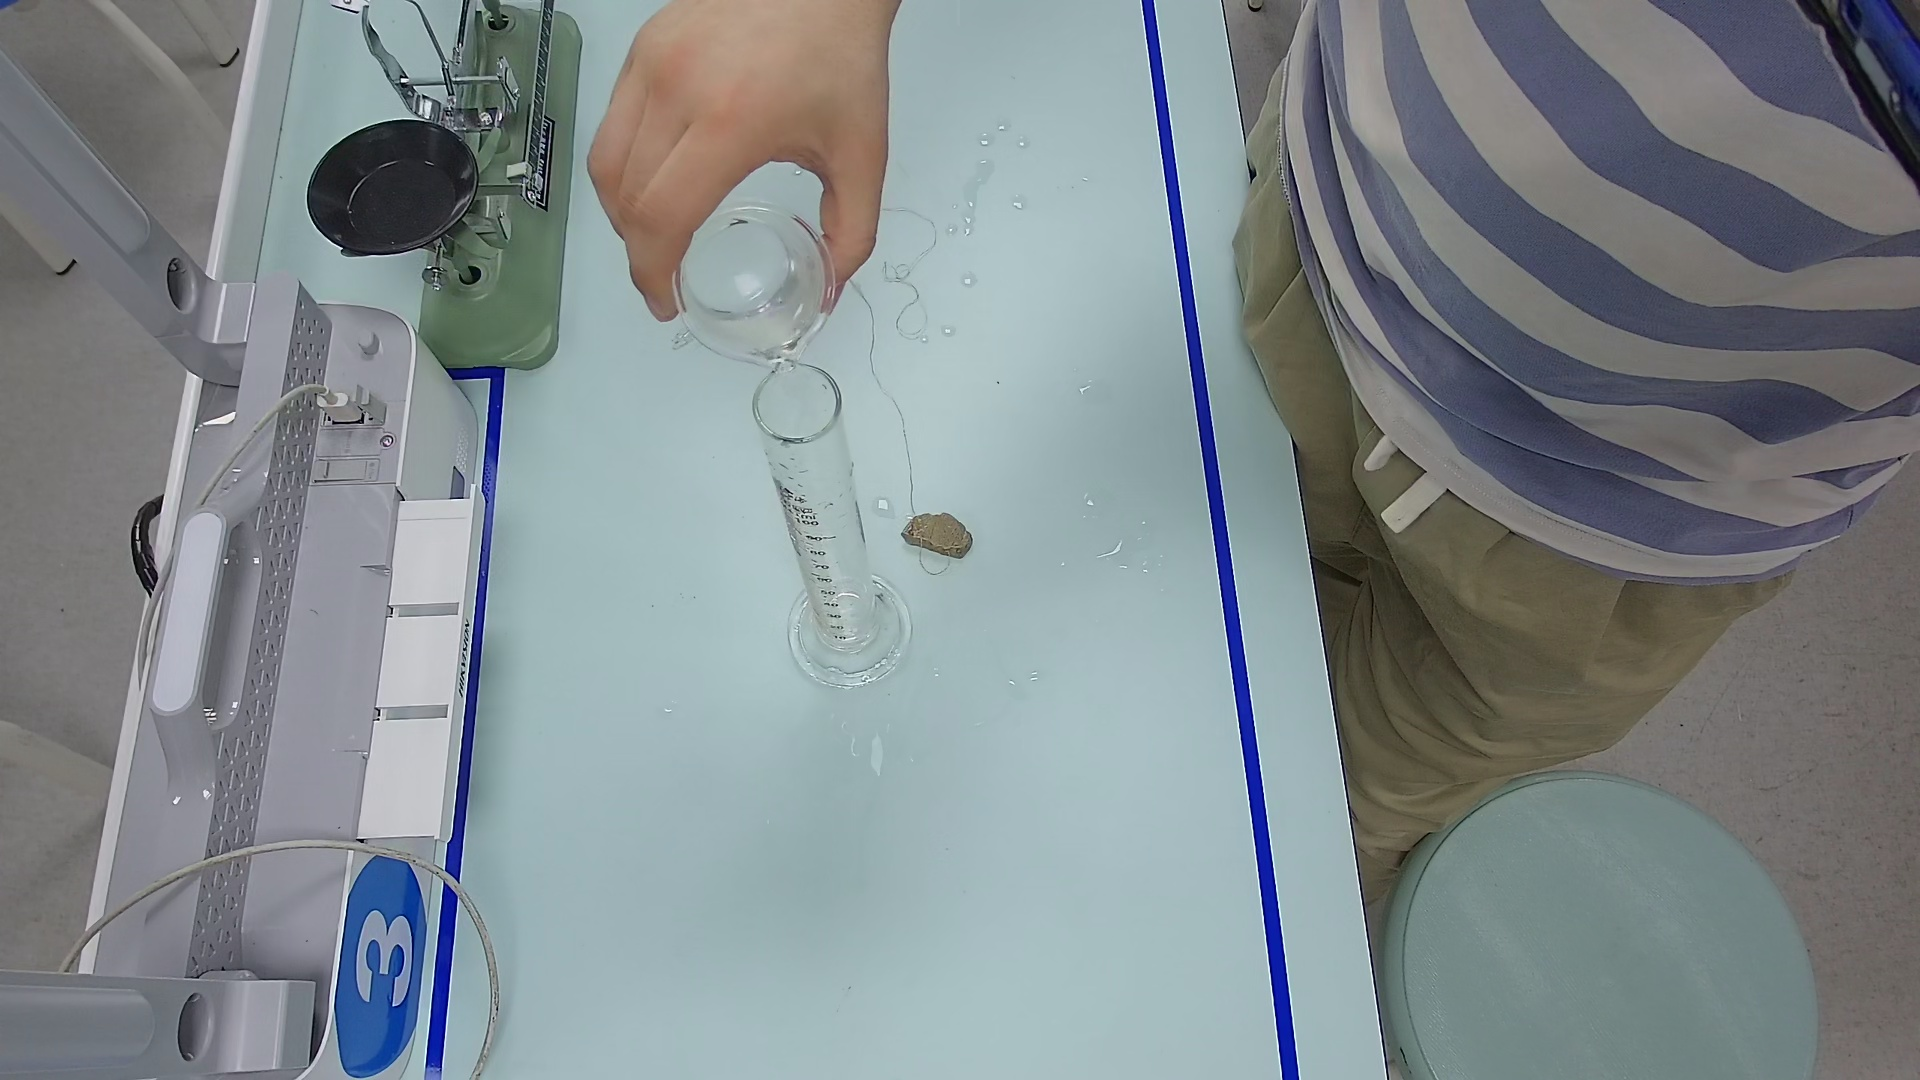ao: (806, 585, 872, 634)
bei: (673, 193, 844, 367)
hand: (597, 24, 893, 316)
liangdi: (781, 570, 924, 692)
liangtong: (741, 353, 907, 692)
shi: (899, 506, 978, 567)
tuo: (310, 107, 483, 261)
